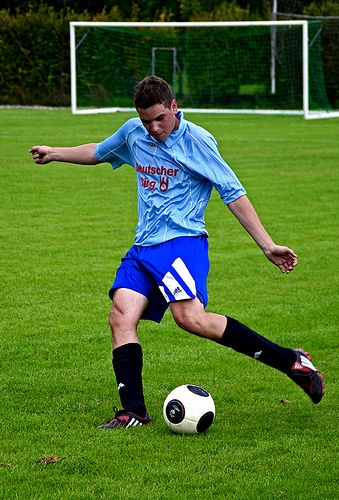head: (133, 76, 178, 144)
person: (20, 65, 326, 441)
